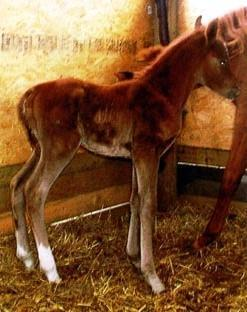horse: (8, 11, 241, 294)
